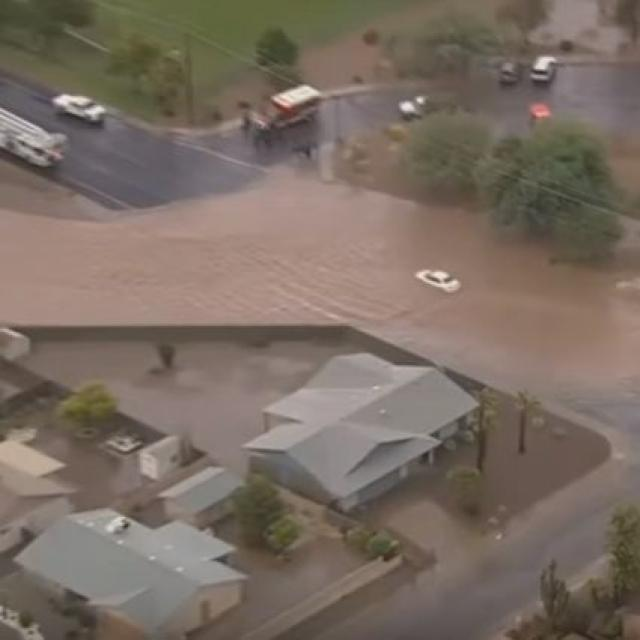flooded_areas: (1, 185, 638, 377)
